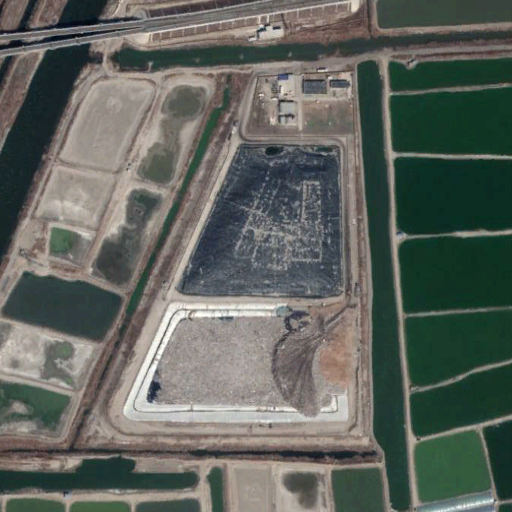lf: (124, 139, 353, 425)
